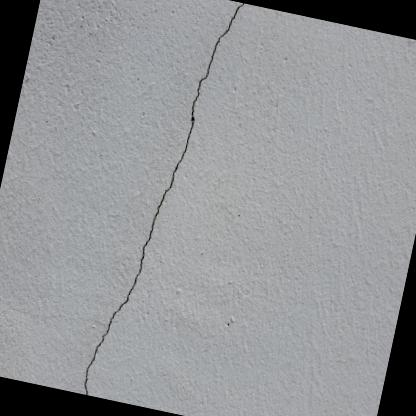crack: (84, 3, 244, 395)
